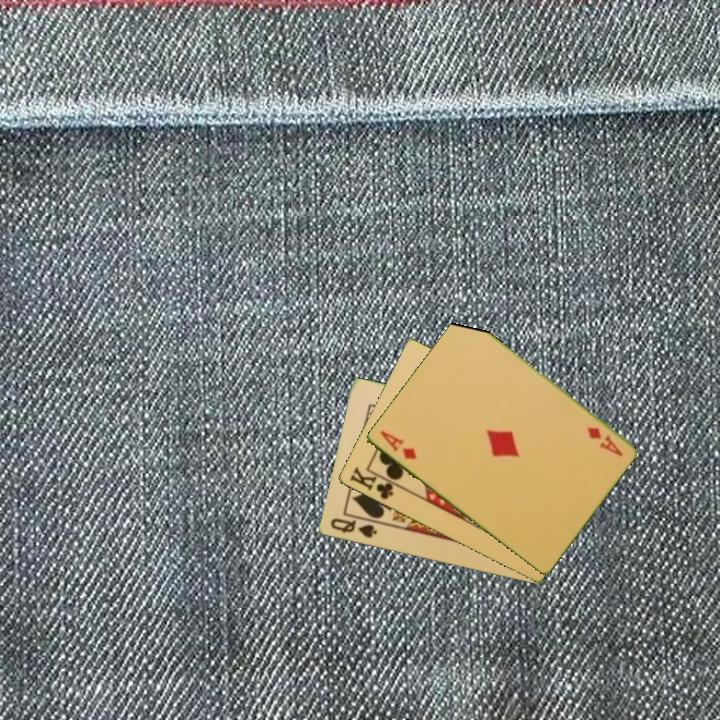Ad: (376, 427, 419, 463), (583, 424, 625, 460)
Kc: (346, 463, 402, 502)
Qs: (326, 515, 379, 541)
